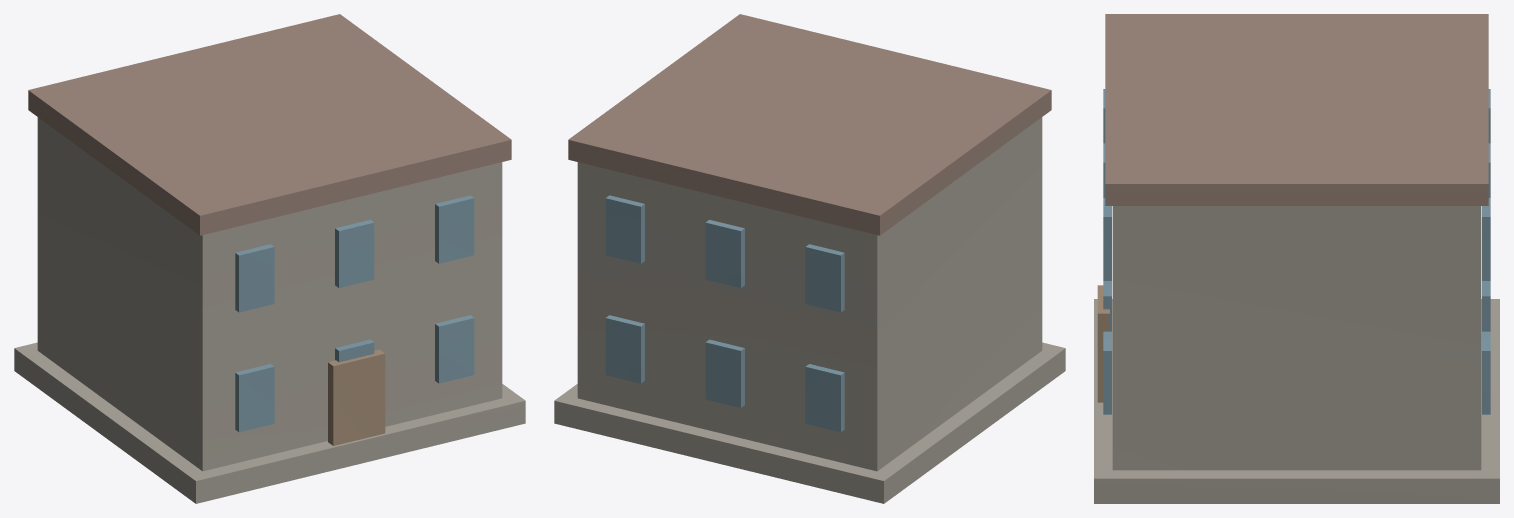
The model's file is warehouse-04.glb.
3 views of the same model, side by side, from view 1: azimuth 30°, elevation 25°; view 2: azimuth 150°, elevation 25°; view 3: azimuth 270°, elevation 25° (orthographic). The views are drawn at different scales.
Visible parts, largest first — view 1: world; view 2: world; view 3: world.
Boxes of the visible parts, x1,y1,x2,y2 form: world: (14,14,525,503); world: (554,14,1065,503); world: (1094,14,1499,503).
Size of the model in its own units: 1.21 by 0.99 by 1.15.
